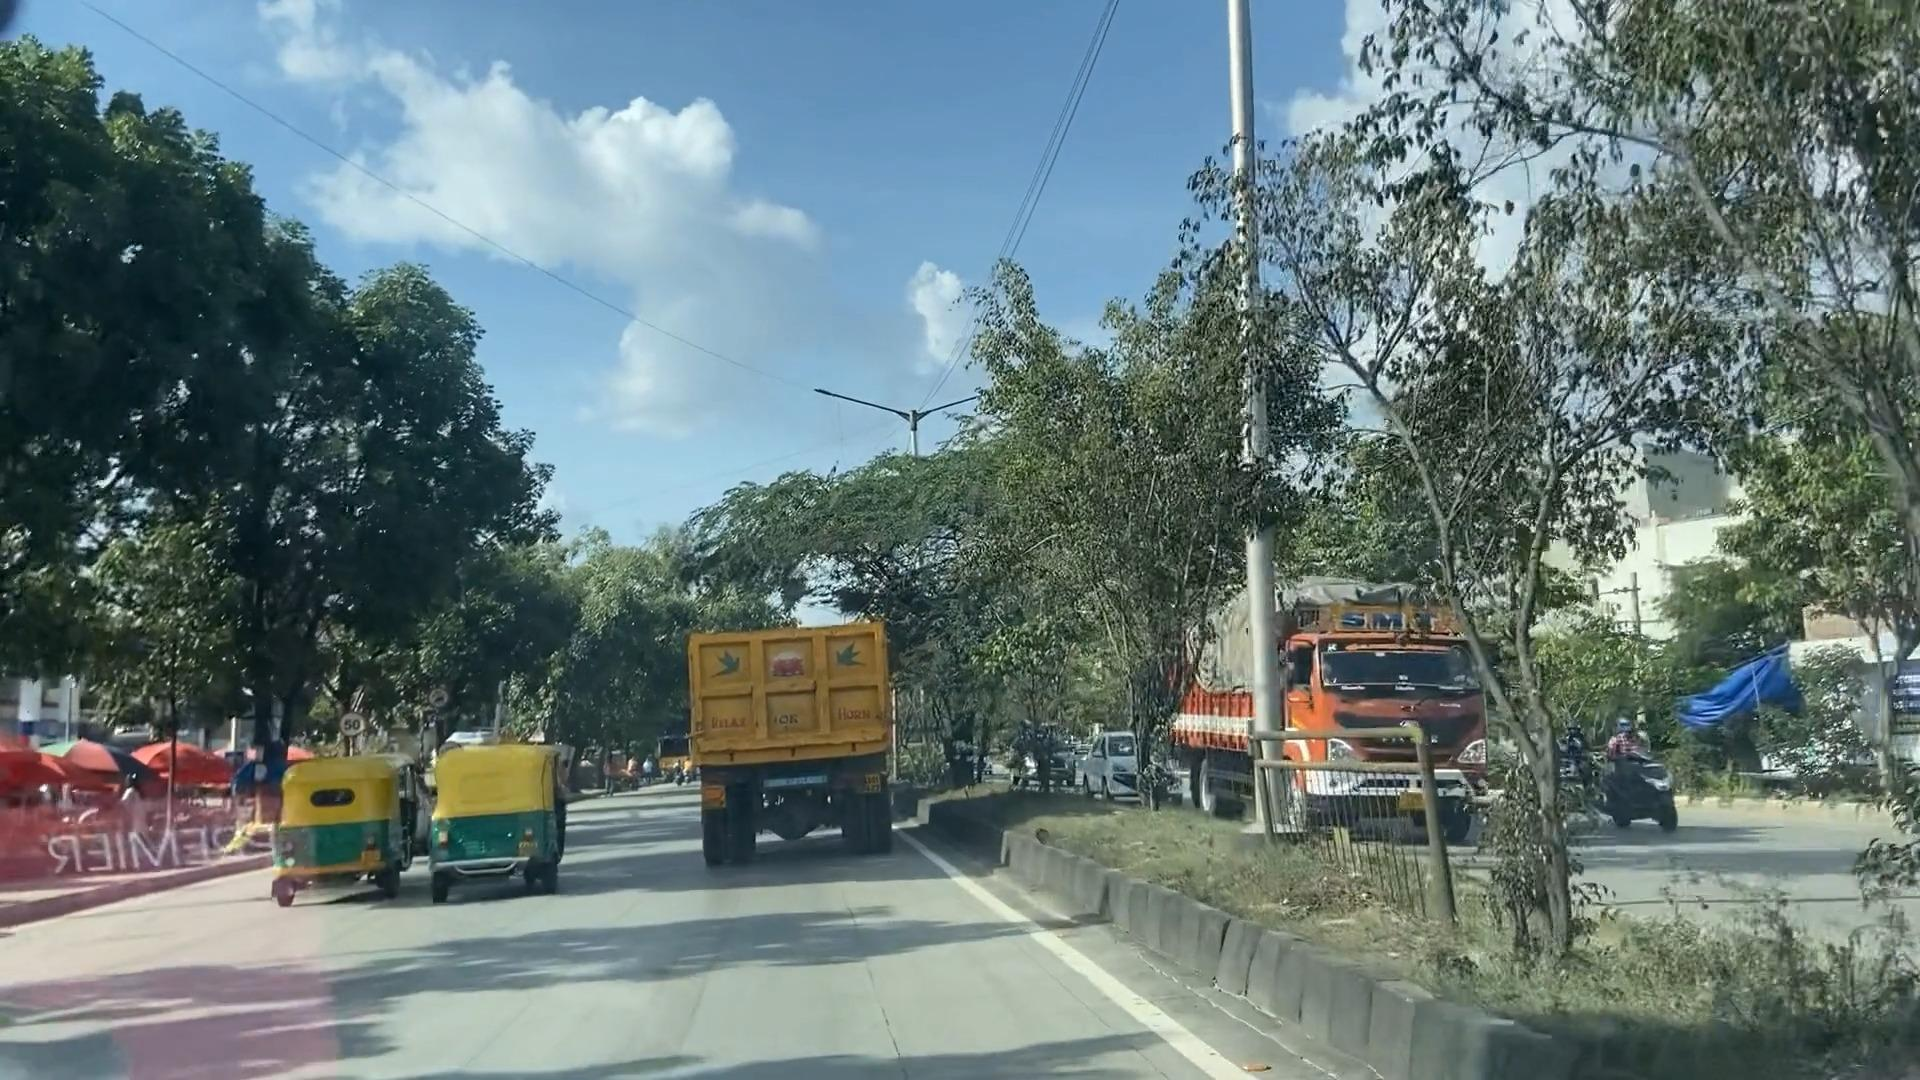HMV: (688, 633, 885, 839)
LMV: (400, 750, 566, 886), (282, 749, 422, 882)
